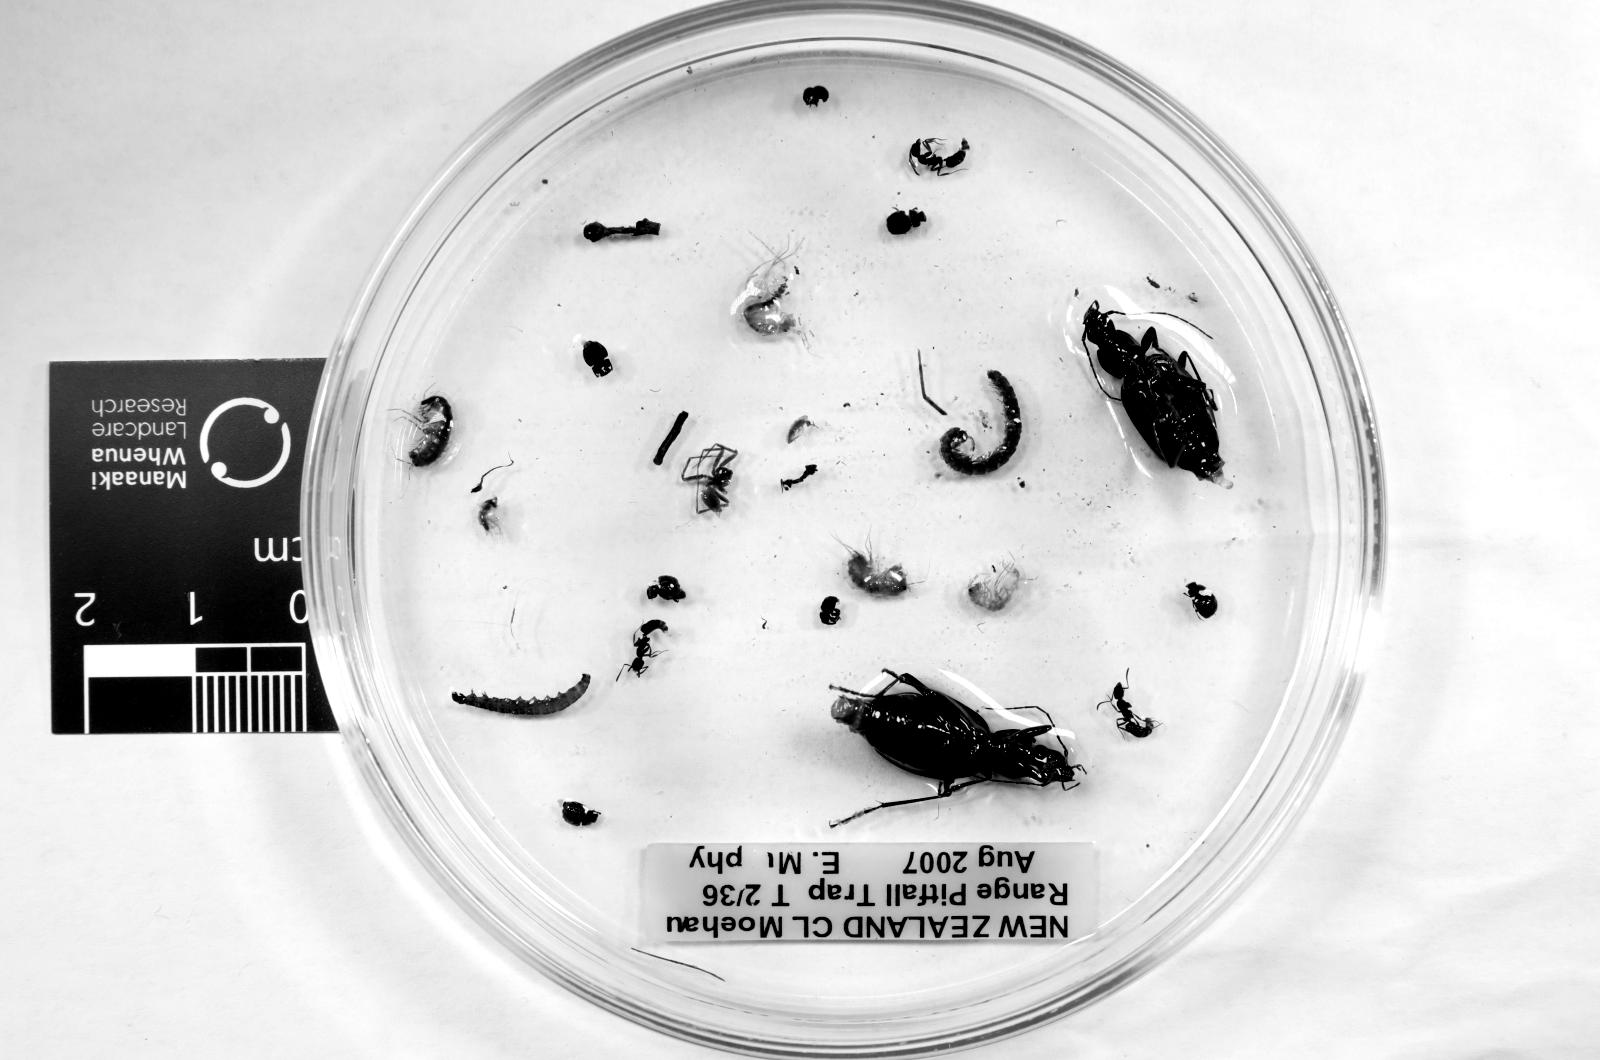amphipoda: (731, 248, 799, 336), (409, 394, 453, 468), (847, 550, 909, 596), (969, 562, 1025, 612), (475, 497, 500, 537)
araneae: (681, 444, 738, 512)
carabidae: (831, 671, 1081, 799), (1084, 302, 1229, 487)
coleoptera: (887, 208, 925, 237), (1187, 584, 1219, 618), (584, 342, 613, 379), (559, 801, 600, 826), (803, 84, 831, 109), (818, 596, 841, 627)
coleoptera_larva: (453, 674, 590, 717)
collembola: (784, 416, 816, 444)
diplopoda: (940, 369, 1022, 476)
formicidae: (1103, 684, 1159, 739), (622, 618, 669, 677), (909, 140, 969, 174)
